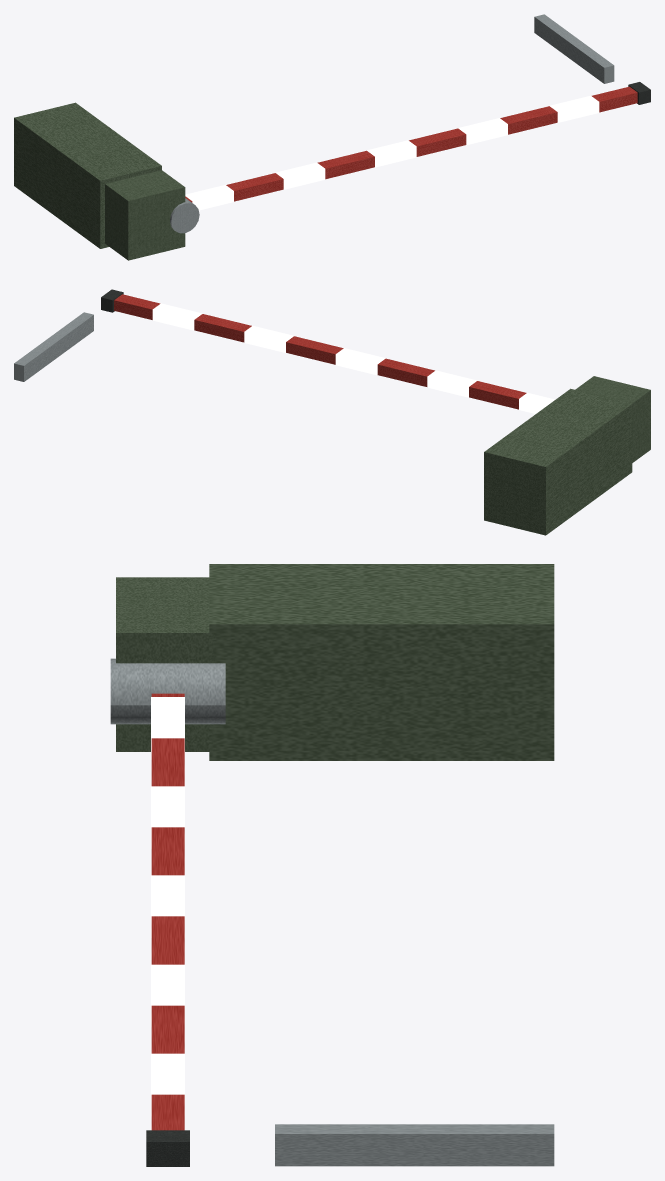
Rendered from Vehicle_Boom_Gate_4m.glb.
The picture shows the model from 3 angles, top to bottom: view 1: azimuth 30°, elevation 25°; view 2: azimuth 150°, elevation 25°; view 3: azimuth 270°, elevation 25°; orthographic projection. The views are drawn at different scales.
Parts seen in each view (by area): view 1: Vehicle_Boom_Gate_4m__CONTROL_CABINET, Vehicle_Boom_Gate_4m__MOTOR_COVER, Vehicle_Boom_Gate_4m__STRIPED_BARRIER_ARM, Vehicle_Boom_Gate_4m__REST_POST, Vehicle_Boom_Gate_4m__WHITE_REFLECTIVE_PANEL_01, Vehicle_Boom_Gate_4m__WHITE_REFLECTIVE_PANEL_04, Vehicle_Boom_Gate_4m__WHITE_REFLECTIVE_PANEL_02, Vehicle_Boom_Gate_4m__WHITE_REFLECTIVE_PANEL_03, Vehicle_Boom_Gate_4m__WHITE_REFLECTIVE_PANEL_00, Vehicle_Boom_Gate_4m__AXLE_BEARING; view 2: Vehicle_Boom_Gate_4m__CONTROL_CABINET, Vehicle_Boom_Gate_4m__STRIPED_BARRIER_ARM, Vehicle_Boom_Gate_4m__MOTOR_COVER, Vehicle_Boom_Gate_4m__REST_POST, Vehicle_Boom_Gate_4m__WHITE_REFLECTIVE_PANEL_02, Vehicle_Boom_Gate_4m__WHITE_REFLECTIVE_PANEL_04, Vehicle_Boom_Gate_4m__WHITE_REFLECTIVE_PANEL_01, Vehicle_Boom_Gate_4m__WHITE_REFLECTIVE_PANEL_03, Vehicle_Boom_Gate_4m__WHITE_REFLECTIVE_PANEL_00; view 3: Vehicle_Boom_Gate_4m__CONTROL_CABINET, Vehicle_Boom_Gate_4m__REST_POST, Vehicle_Boom_Gate_4m__MOTOR_COVER, Vehicle_Boom_Gate_4m__STRIPED_BARRIER_ARM, Vehicle_Boom_Gate_4m__AXLE_BEARING, Vehicle_Boom_Gate_4m__END_CAP, Vehicle_Boom_Gate_4m__WHITE_REFLECTIVE_PANEL_03, Vehicle_Boom_Gate_4m__WHITE_REFLECTIVE_PANEL_04, Vehicle_Boom_Gate_4m__WHITE_REFLECTIVE_PANEL_00, Vehicle_Boom_Gate_4m__WHITE_REFLECTIVE_PANEL_01, Vehicle_Boom_Gate_4m__WHITE_REFLECTIVE_PANEL_02.
Boxes of the visible parts, left/top/right/bottom form: Vehicle_Boom_Gate_4m__CONTROL_CABINET: left=14, top=102, right=161, bottom=248; Vehicle_Boom_Gate_4m__MOTOR_COVER: left=105, top=170, right=185, bottom=260; Vehicle_Boom_Gate_4m__STRIPED_BARRIER_ARM: left=185, top=86, right=637, bottom=202; Vehicle_Boom_Gate_4m__REST_POST: left=534, top=14, right=614, bottom=83; Vehicle_Boom_Gate_4m__WHITE_REFLECTIVE_PANEL_01: left=275, top=162, right=325, bottom=189; Vehicle_Boom_Gate_4m__WHITE_REFLECTIVE_PANEL_04: left=549, top=95, right=599, bottom=122; Vehicle_Boom_Gate_4m__WHITE_REFLECTIVE_PANEL_02: left=367, top=140, right=416, bottom=167; Vehicle_Boom_Gate_4m__WHITE_REFLECTIVE_PANEL_03: left=458, top=118, right=507, bottom=145; Vehicle_Boom_Gate_4m__WHITE_REFLECTIVE_PANEL_00: left=185, top=185, right=233, bottom=210; Vehicle_Boom_Gate_4m__AXLE_BEARING: left=170, top=198, right=199, bottom=233; Vehicle_Boom_Gate_4m__CONTROL_CABINET: left=484, top=388, right=632, bottom=535; Vehicle_Boom_Gate_4m__STRIPED_BARRIER_ARM: left=114, top=294, right=526, bottom=409; Vehicle_Boom_Gate_4m__MOTOR_COVER: left=575, top=376, right=650, bottom=462; Vehicle_Boom_Gate_4m__REST_POST: left=14, top=312, right=93, bottom=381; Vehicle_Boom_Gate_4m__WHITE_REFLECTIVE_PANEL_02: left=335, top=348, right=385, bottom=375; Vehicle_Boom_Gate_4m__WHITE_REFLECTIVE_PANEL_04: left=152, top=303, right=202, bottom=330; Vehicle_Boom_Gate_4m__WHITE_REFLECTIVE_PANEL_01: left=427, top=370, right=477, bottom=397; Vehicle_Boom_Gate_4m__WHITE_REFLECTIVE_PANEL_03: left=244, top=325, right=293, bottom=352; Vehicle_Boom_Gate_4m__WHITE_REFLECTIVE_PANEL_00: left=519, top=392, right=555, bottom=413; Vehicle_Boom_Gate_4m__CONTROL_CABINET: left=209, top=564, right=554, bottom=760; Vehicle_Boom_Gate_4m__REST_POST: left=275, top=1124, right=554, bottom=1166; Vehicle_Boom_Gate_4m__MOTOR_COVER: left=116, top=577, right=214, bottom=751; Vehicle_Boom_Gate_4m__STRIPED_BARRIER_ARM: left=151, top=693, right=184, bottom=1130; Vehicle_Boom_Gate_4m__AXLE_BEARING: left=110, top=658, right=225, bottom=724; Vehicle_Boom_Gate_4m__END_CAP: left=146, top=1130, right=189, bottom=1166; Vehicle_Boom_Gate_4m__WHITE_REFLECTIVE_PANEL_03: left=151, top=964, right=184, bottom=1027; Vehicle_Boom_Gate_4m__WHITE_REFLECTIVE_PANEL_04: left=151, top=1053, right=184, bottom=1116; Vehicle_Boom_Gate_4m__WHITE_REFLECTIVE_PANEL_00: left=151, top=697, right=184, bottom=759; Vehicle_Boom_Gate_4m__WHITE_REFLECTIVE_PANEL_01: left=151, top=786, right=184, bottom=848; Vehicle_Boom_Gate_4m__WHITE_REFLECTIVE_PANEL_02: left=151, top=875, right=184, bottom=937.
Size of the model in its own units: 4.51 by 0.568 by 1.62.
Materials: 5 (5 with a texture image).
